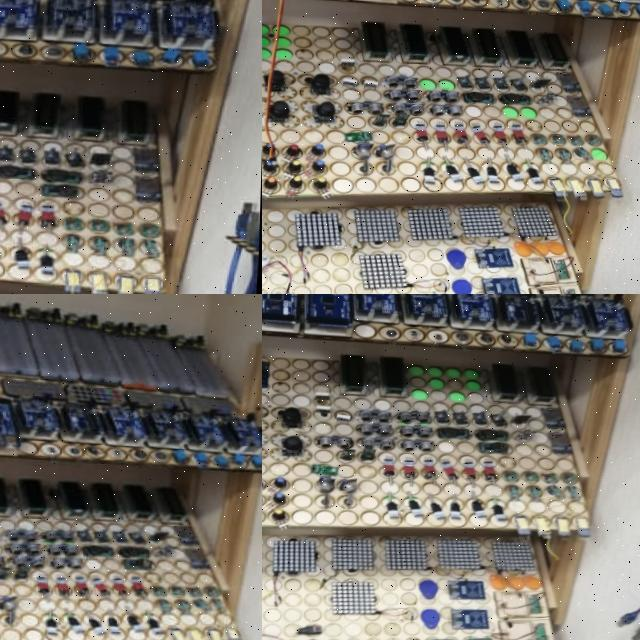Green-circles: (262, 22, 290, 59), (501, 97, 538, 117), (446, 364, 482, 379), (409, 362, 445, 376), (424, 75, 458, 89), (411, 384, 431, 400), (429, 375, 447, 389), (466, 379, 484, 391), (447, 390, 466, 401), (591, 147, 614, 156)
